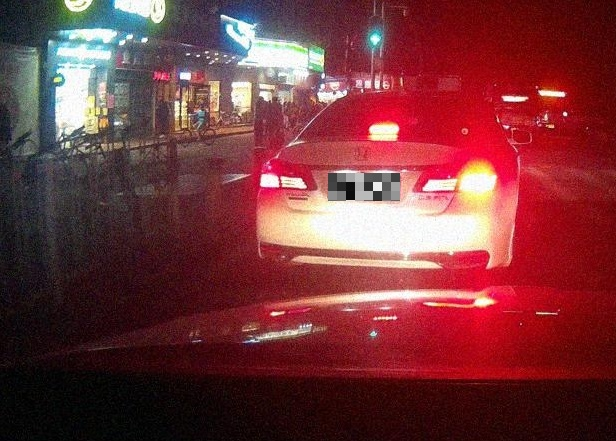L_light: (259, 158, 318, 191)
R_light: (412, 160, 497, 193)
T_light: (369, 125, 399, 135)
night-right: (256, 89, 502, 285)
plate_1: (328, 173, 400, 201)
